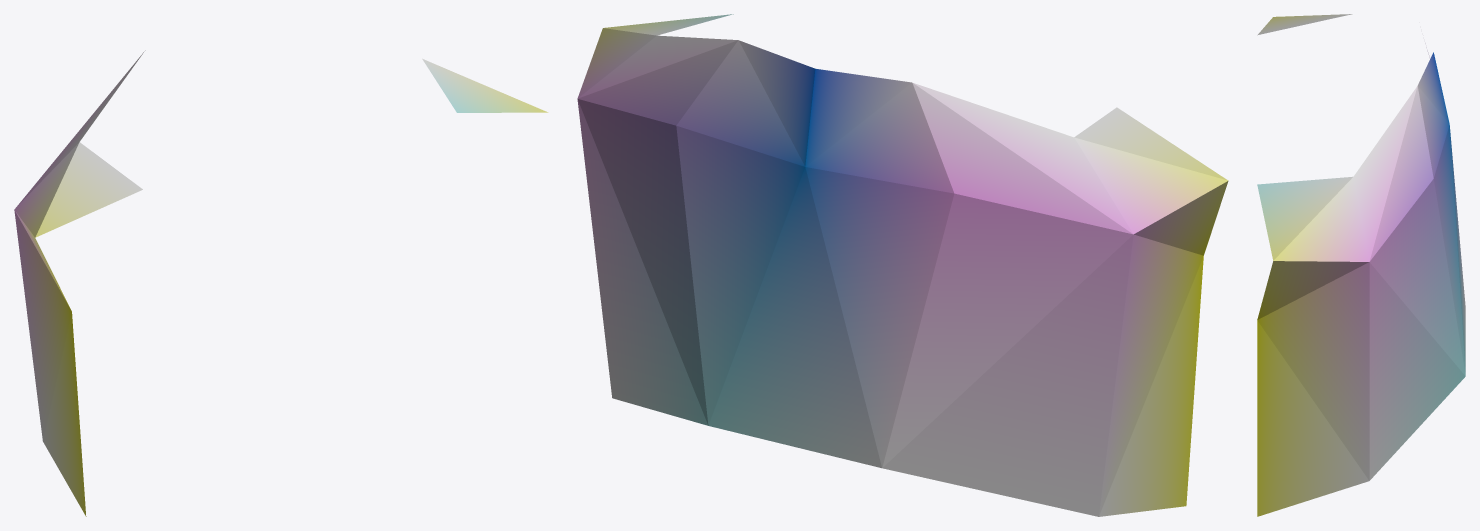
3 renders of one model, left to right at view 1: azimuth 30°, elevation 25°; view 2: azimuth 150°, elevation 25°; view 3: azimuth 270°, elevation 25°, orthographic. The views are drawn at different scales.
Parts seen in each view (by area): view 1: model_11C0; view 2: model_11C0; view 3: model_11C0.
Boxes of the visible parts, box(x1,y1,x2,y2) form: model_11C0: box(14, 50, 548, 516); model_11C0: box(577, 14, 1228, 516); model_11C0: box(1257, 14, 1465, 516).
Size of the model in its own units: 36 by 25 by 13.
